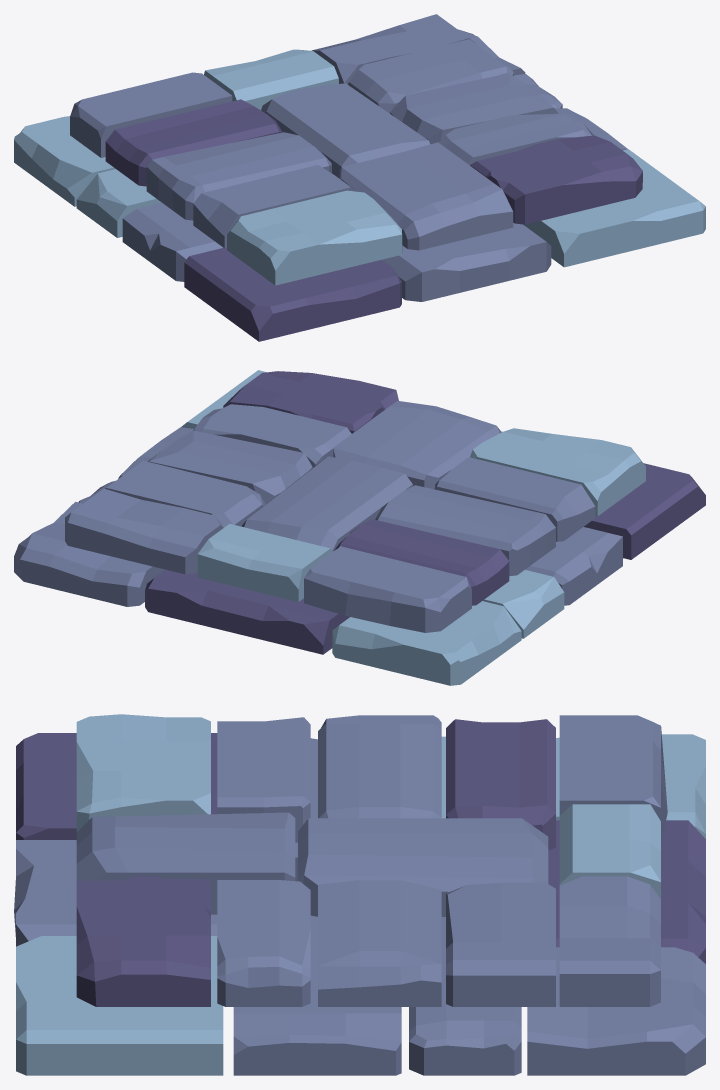
File: Graveyard Keep Base.fbx
3 views of the same model, one above another, from view 1: azimuth 30°, elevation 25°; view 2: azimuth 150°, elevation 25°; view 3: azimuth 270°, elevation 25° (orthographic). The views are drawn at different scales.
Parts seen in each view (by area): view 1: Graveyard Keep Base; view 2: Graveyard Keep Base; view 3: Graveyard Keep Base.
Part boxes in pixels (box(x1,y1,x2,y2)): Graveyard Keep Base: box(14, 14, 705, 341); Graveyard Keep Base: box(14, 370, 705, 685); Graveyard Keep Base: box(14, 714, 705, 1075).
Size of the model in its own units: 603 by 80.52 by 578.
